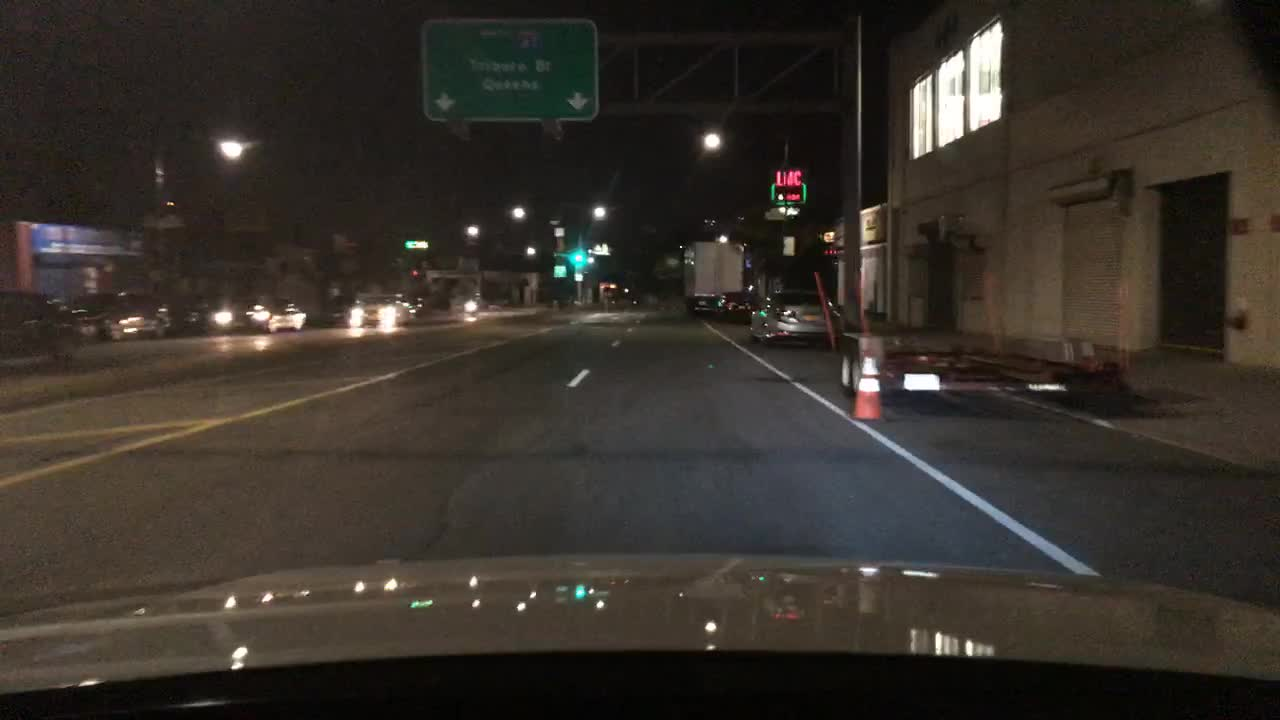car: (745, 284, 850, 351), (0, 285, 93, 357), (75, 288, 172, 339), (183, 296, 273, 338), (343, 292, 417, 328), (246, 295, 309, 335), (319, 292, 361, 328), (715, 289, 756, 323), (445, 294, 483, 313), (396, 292, 427, 312), (602, 284, 619, 300)
traffic light: (571, 248, 585, 269), (409, 268, 421, 277)
traffic sign: (419, 18, 598, 122), (781, 235, 796, 257), (552, 263, 569, 277), (552, 225, 567, 237), (551, 250, 570, 259), (573, 271, 583, 281)
truck: (680, 238, 747, 315)
